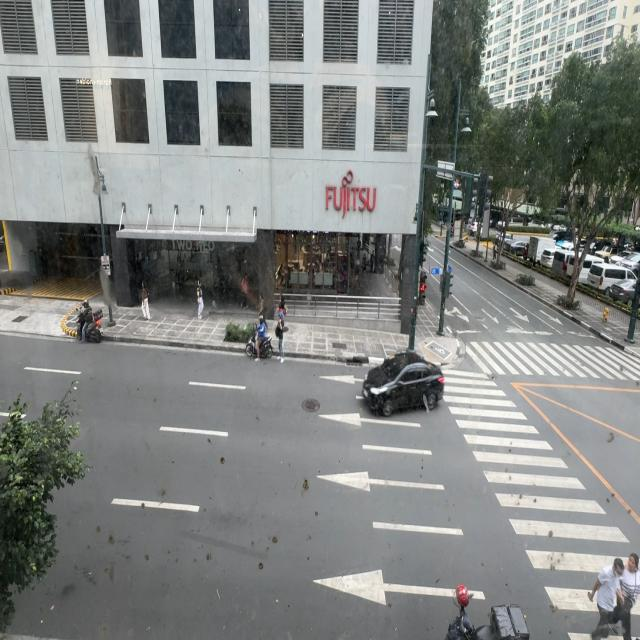crossing: (582, 543, 625, 640), (617, 537, 640, 640), (612, 555, 640, 637)
